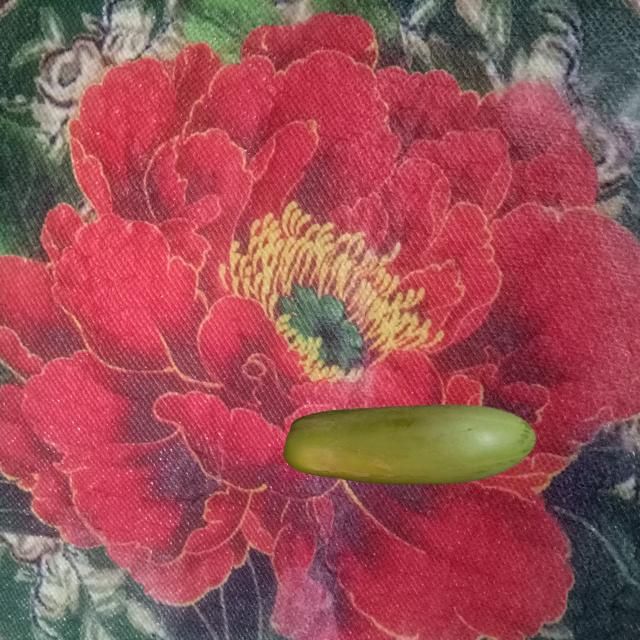Pepaya unrippen: (278, 406, 540, 493)
